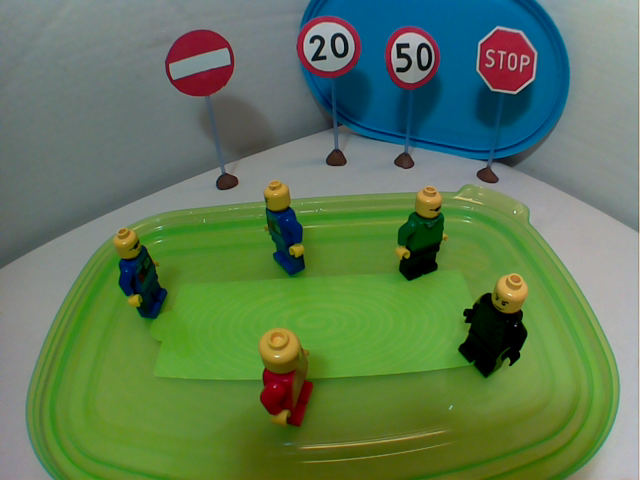Ograniczenie 20: (293, 13, 365, 82)
Ograniczenie 50: (383, 24, 442, 93)
Postac LEGO: (452, 267, 532, 380), (252, 322, 321, 435), (106, 223, 173, 321), (392, 183, 450, 282), (256, 174, 310, 280)
Stop: (471, 22, 542, 99)
Zakaz: (162, 27, 237, 100)
